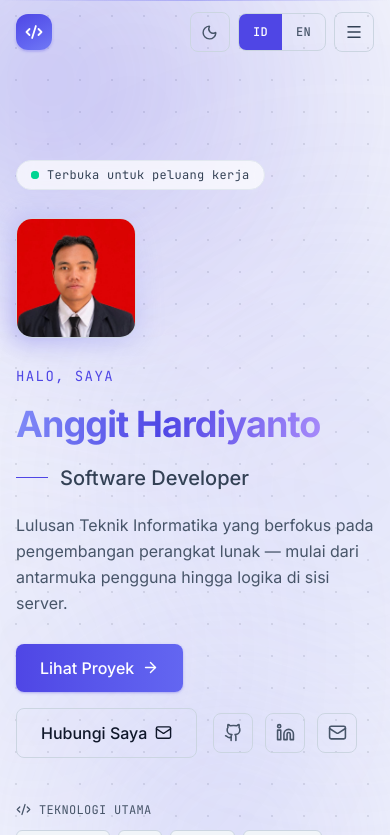
Scenario: Navigasi › menutup menu mobile setelah memilih navigasi
This screenshot has width=390, height=835.
Click the button named "Buka menu navigasi": (354, 32) [334,12,374,52]
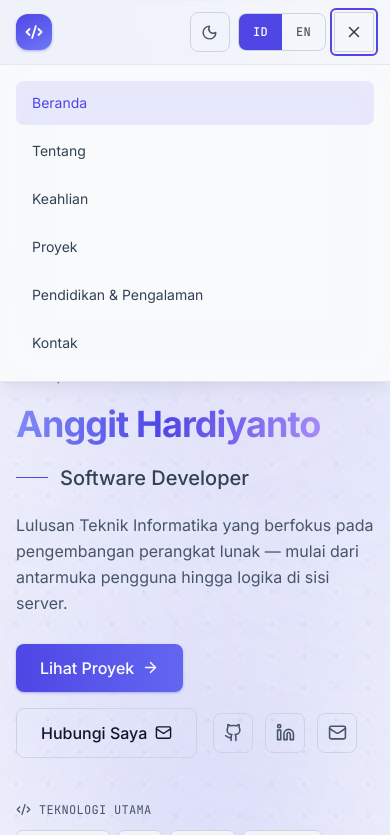
Scope ke menu mobile (desktop nav juga punya tombol "Kontak")
Click the button "Kontak": (55, 342) [16,321,374,365]
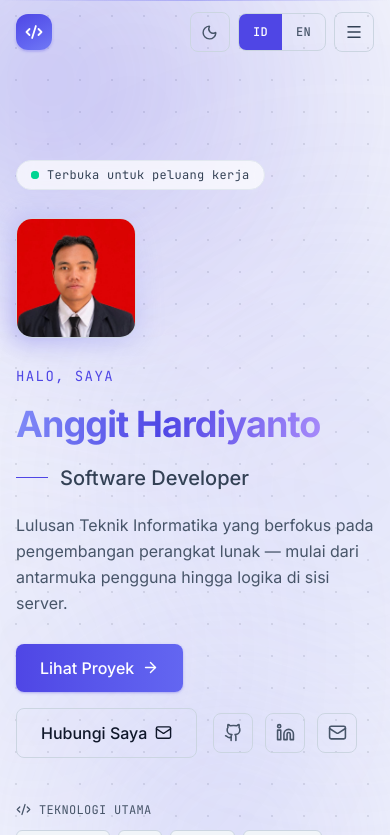
Check: the button named "Buka menu navigasi" is collapsed, box [334,12,374,52]
